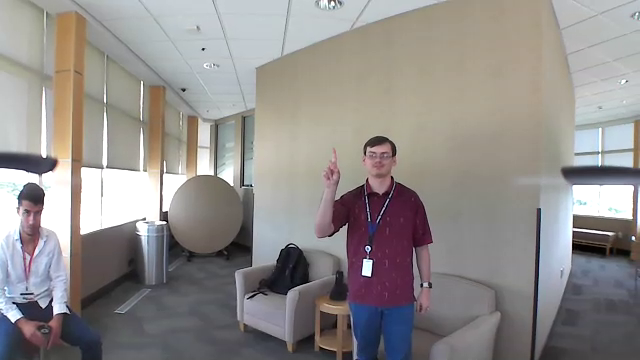up: (317, 143, 346, 194)
